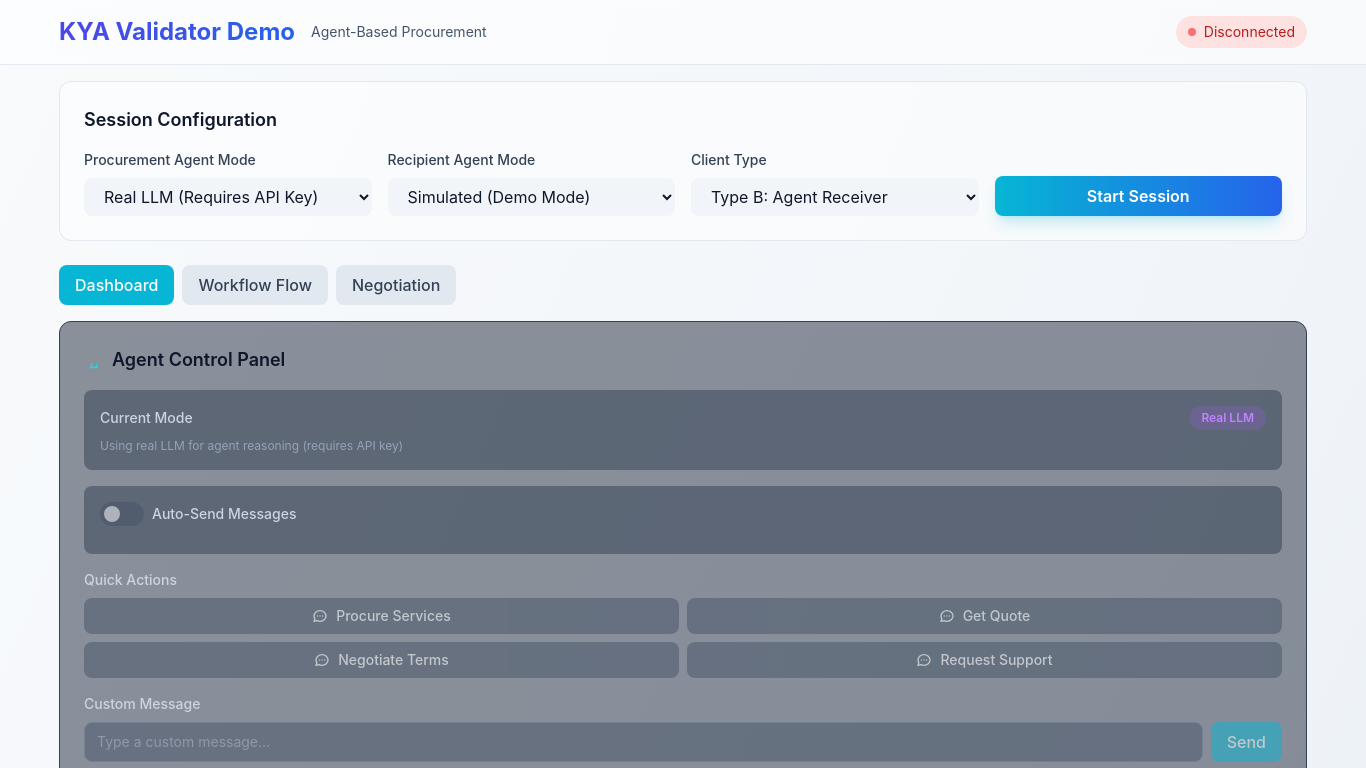
DemoDashboard › Tab Navigation › should switch to workflow flow tab when clicked
The image size is (1366, 768).
Step 1. Click the button "Workflow Flow" → {"x": 255, "y": 285}, box [182,265,328,305]
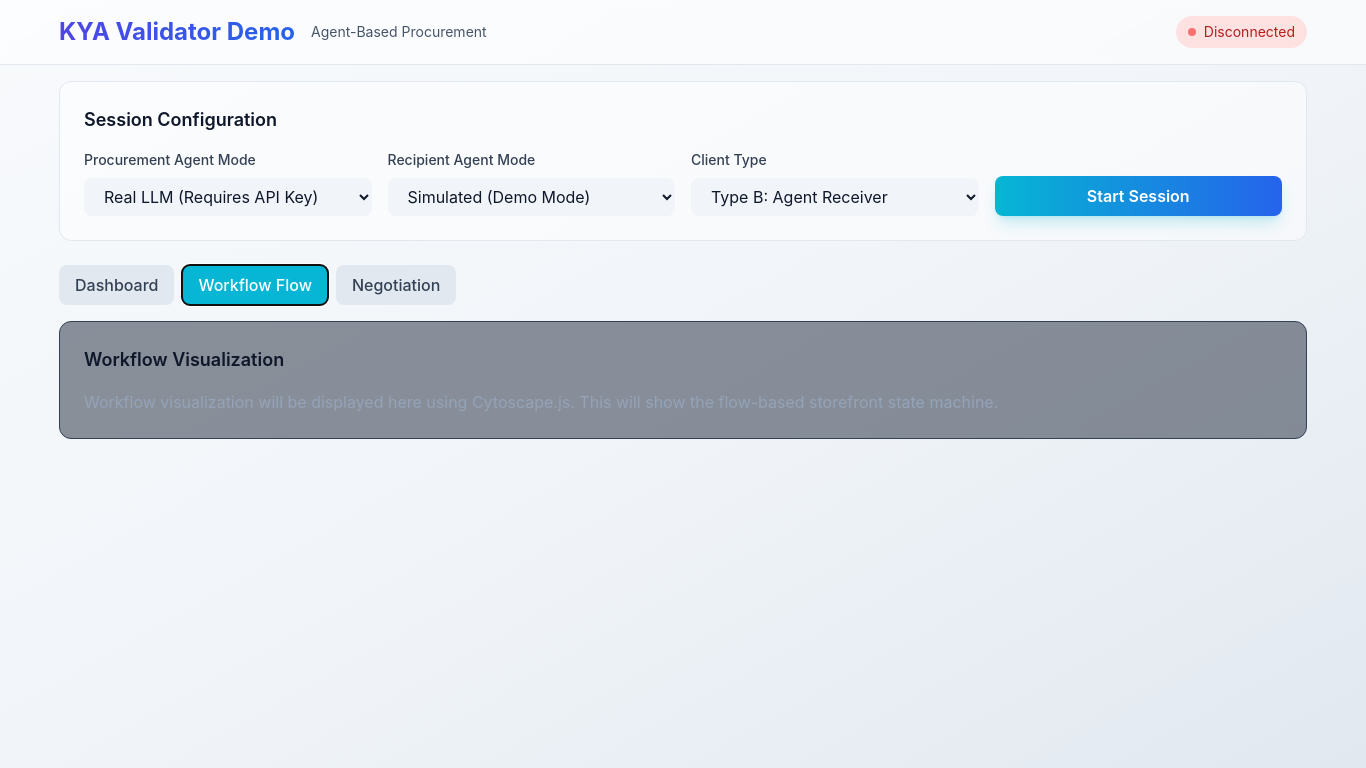
Expected: the heading "Workflow Visualization" is shown, [84,349,284,370]
